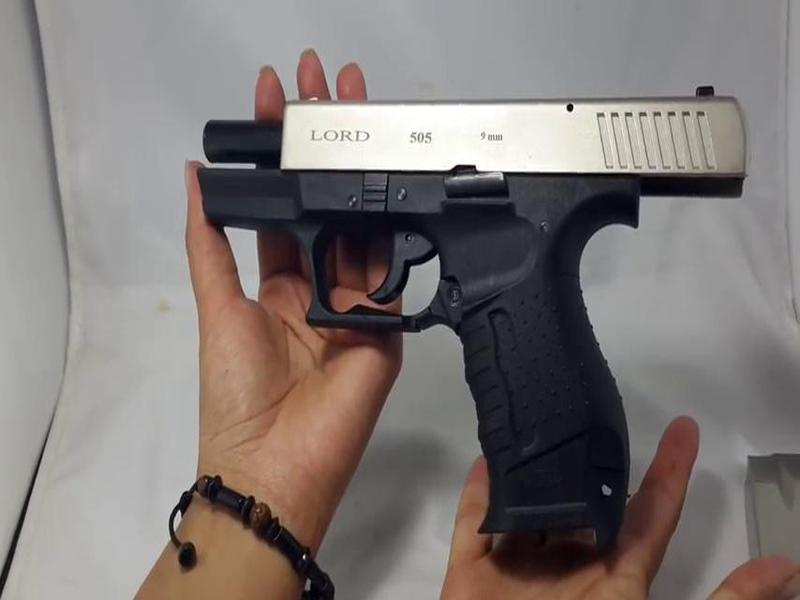Pistola: (160, 84, 755, 534)
